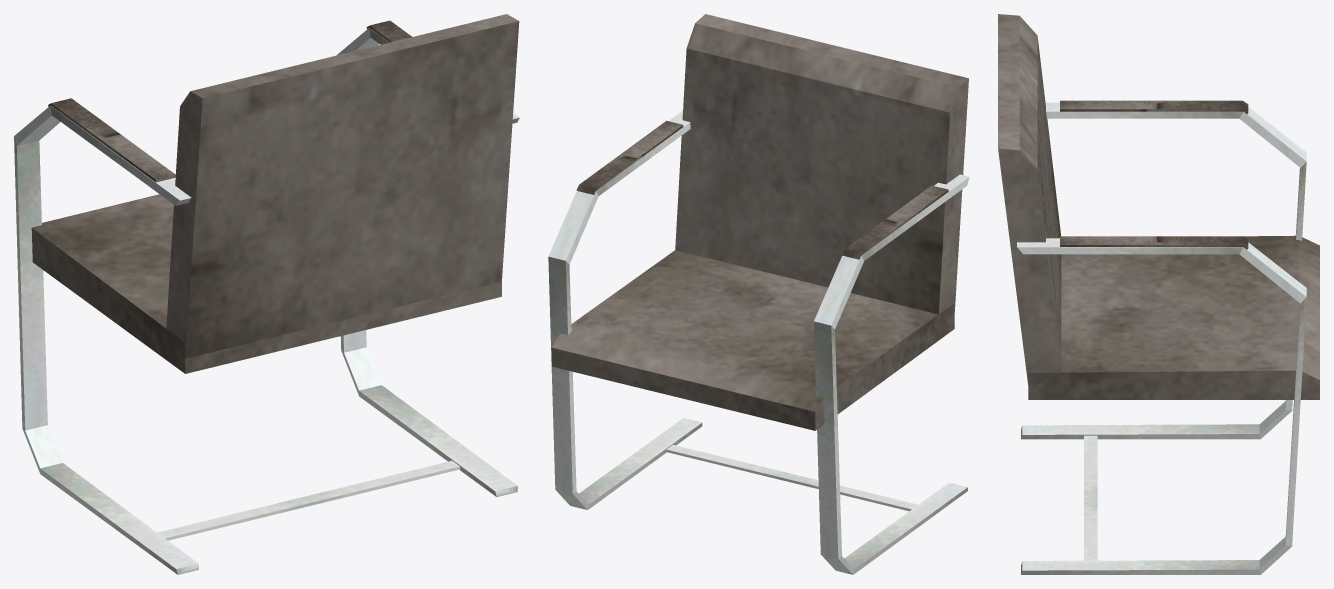
The model's file is conference_chair_grey.fbx.
The picture shows the model from 3 angles, left to right: view 1: azimuth 30°, elevation 25°; view 2: azimuth 150°, elevation 25°; view 3: azimuth 270°, elevation 25°; orthographic projection. The views are drawn at different scales.
Parts seen in each view (by area): view 1: conference_chair_grey; view 2: conference_chair_grey; view 3: conference_chair_grey.
Boxes of the visible parts, left/top/right/bottom form: conference_chair_grey: left=14, top=14, right=519, bottom=574; conference_chair_grey: left=548, top=14, right=969, bottom=574; conference_chair_grey: left=998, top=14, right=1319, bottom=574.
Size of the model in its own units: 74.95 by 101 by 70.18.
